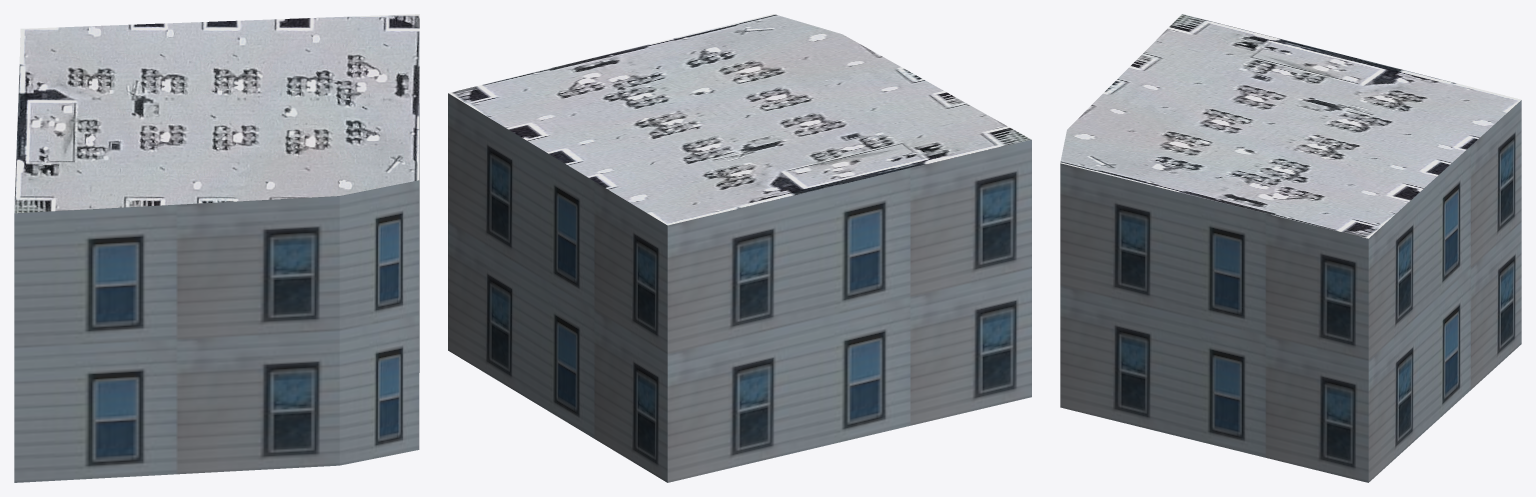
File: ResTex__2689.fbx
The picture shows the model from 3 angles, left to right: view 1: azimuth 30°, elevation 25°; view 2: azimuth 150°, elevation 25°; view 3: azimuth 270°, elevation 25°; orthographic projection. The views are drawn at different scales.
Parts seen in each view (by area): view 1: CityEngineMaterial_18_m, CityEngineMaterial_m; view 2: CityEngineMaterial_18_m, CityEngineMaterial_m; view 3: CityEngineMaterial_18_m, CityEngineMaterial_m.
Part boxes in pixels (x1,y1,x2,y2): CityEngineMaterial_18_m: (14,103,419,482); CityEngineMaterial_m: (14,14,419,213); CityEngineMaterial_18_m: (448,93,1031,482); CityEngineMaterial_m: (448,14,1031,225); CityEngineMaterial_18_m: (1060,100,1521,482); CityEngineMaterial_m: (1060,14,1521,238).
Bounding box in the file's own units: 11.84 × 6 × 10.28.
Materials: 2 (2 with a texture image).
